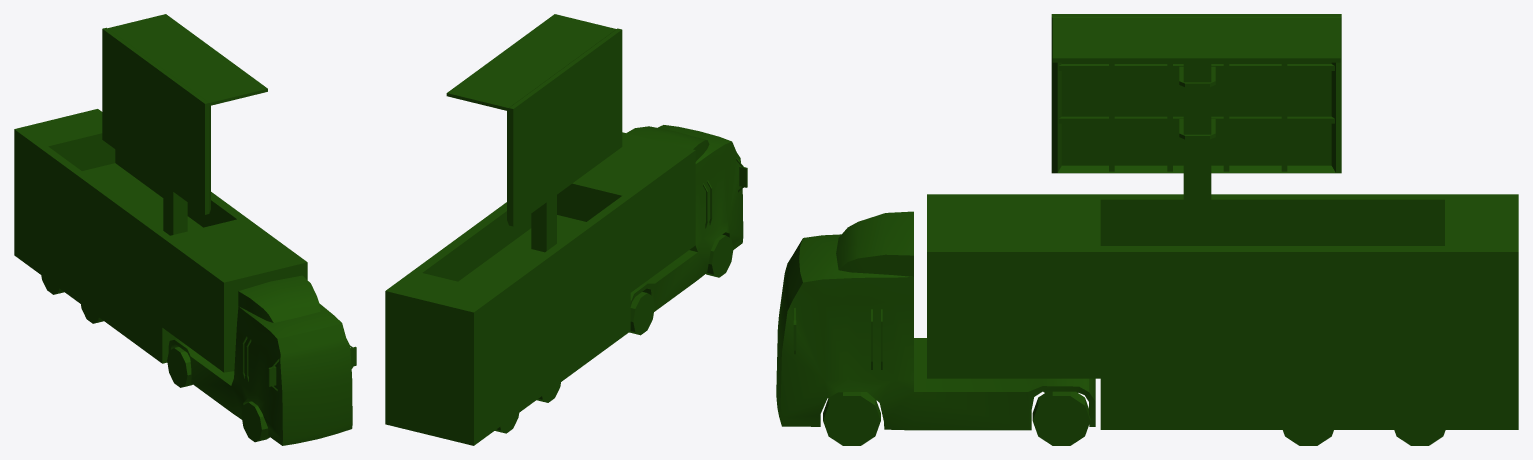
File: Vehicle12.fbx
3 views of the same model, side by side, from view 1: azimuth 30°, elevation 25°; view 2: azimuth 150°, elevation 25°; view 3: azimuth 270°, elevation 25° (orthographic). The views are drawn at different scales.
Parts seen in each view (by area): view 1: Vehicle12; view 2: Vehicle12; view 3: Vehicle12.
Boxes of the visible parts, <box> form: Vehicle12: <box>14,14,356,445</box>; Vehicle12: <box>385,14,747,445</box>; Vehicle12: <box>776,14,1518,445</box>.
Bounding box in the file's own units: 1.87 × 5.5 × 9.43.
